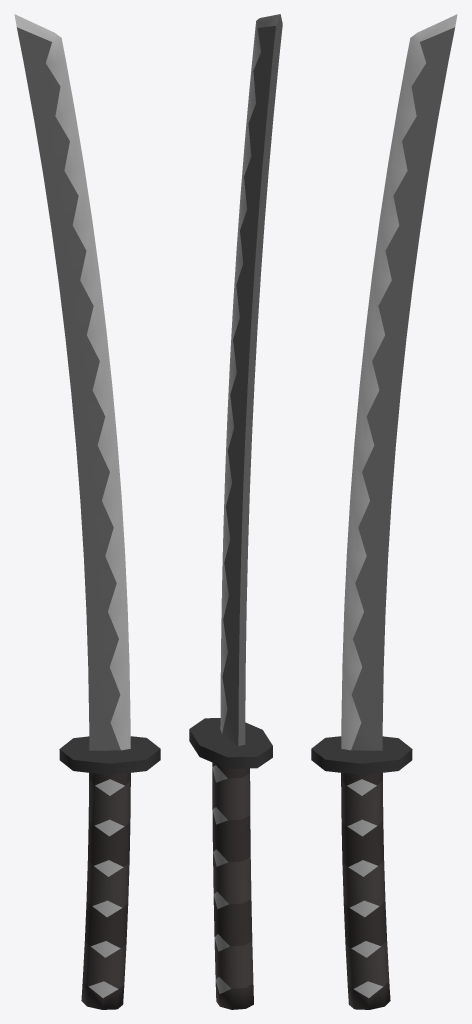
Rendered from katana.fbx.
The picture shows the model from 3 angles, left to right: view 1: azimuth 90°, elevation 25°; view 2: azimuth 210°, elevation 25°; view 3: azimuth 270°, elevation 25°; orthographic projection. The views are drawn at different scales.
Parts seen in each view (by area): view 1: Katana; view 2: Katana; view 3: Katana.
Boxes of the visible parts, x1,y1,x2,y2 form: Katana: (14,14,160,1009); Katana: (189,14,282,1009); Katana: (311,14,457,1009).
Bounding box in the file's own units: 0.0585 × 0.9088 × 0.1211.
